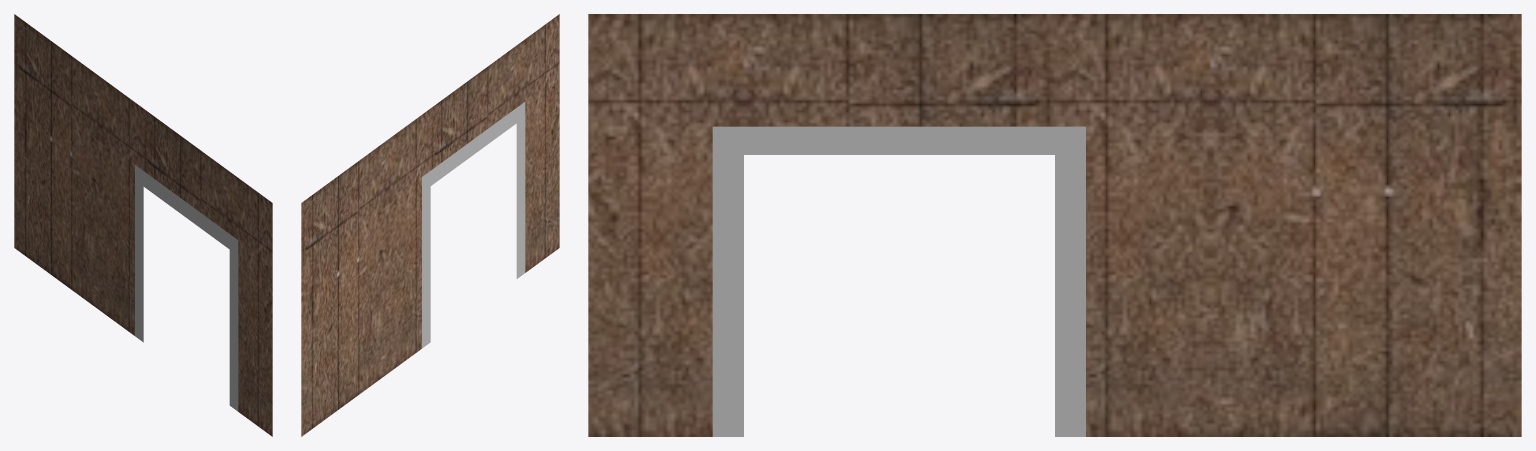
Rendered from interior_wall_1_doorway_1.fbx.
The picture shows the model from 3 angles, left to right: view 1: azimuth 30°, elevation 25°; view 2: azimuth 150°, elevation 25°; view 3: azimuth 270°, elevation 25°; orthographic projection. The views are drawn at different scales.
Visible parts, largest first — view 1: interior_wall_1_doorway_1; view 2: interior_wall_1_doorway_1; view 3: interior_wall_1_doorway_1.
Boxes of the visible parts, <box> form: interior_wall_1_doorway_1: <box>14,14,272,436</box>; interior_wall_1_doorway_1: <box>301,14,559,436</box>; interior_wall_1_doorway_1: <box>588,14,1521,436</box>.
Bounding box in the file's own units: 0 × 96 × 192.
